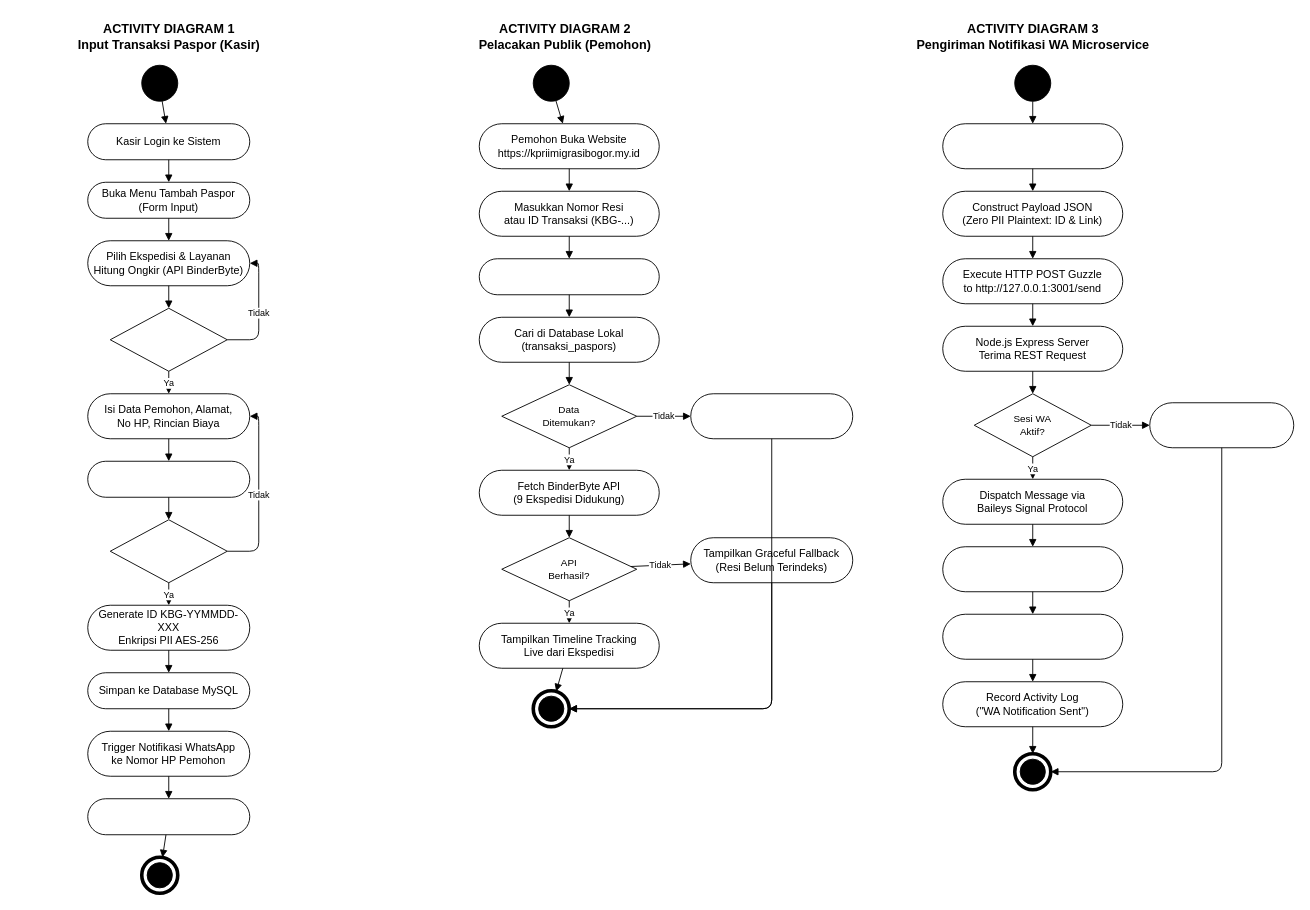
Some shapes in this 1310 by 910 pixel diagram are drawn without their labels. Here are the shapes that lost their labels. From the top down, the centre of each, then its label:
the point at 1032,146: Event Trigger Notifikasi (Transaksi Baru / Update Status)
the point at 568,276: Klik Tombol Lacak Paspor
the point at 168,339: Ongkir Berhasil?
the point at 771,416: Tampilkan Pesan Data Tidak Ditemukan
the point at 1221,425: Return HTTP 500 Error (Session Disconnected)
the point at 168,478: Klik Simpan Transaksi
the point at 168,551: Validasi Berhasil?
the point at 1032,569: Deliver E2EE Message ke WhatsApp Target HP
the point at 1032,636: Return HTTP 200 Success {status: true}
the point at 168,816: Cetak Struk Kwitansi (Opsional)
